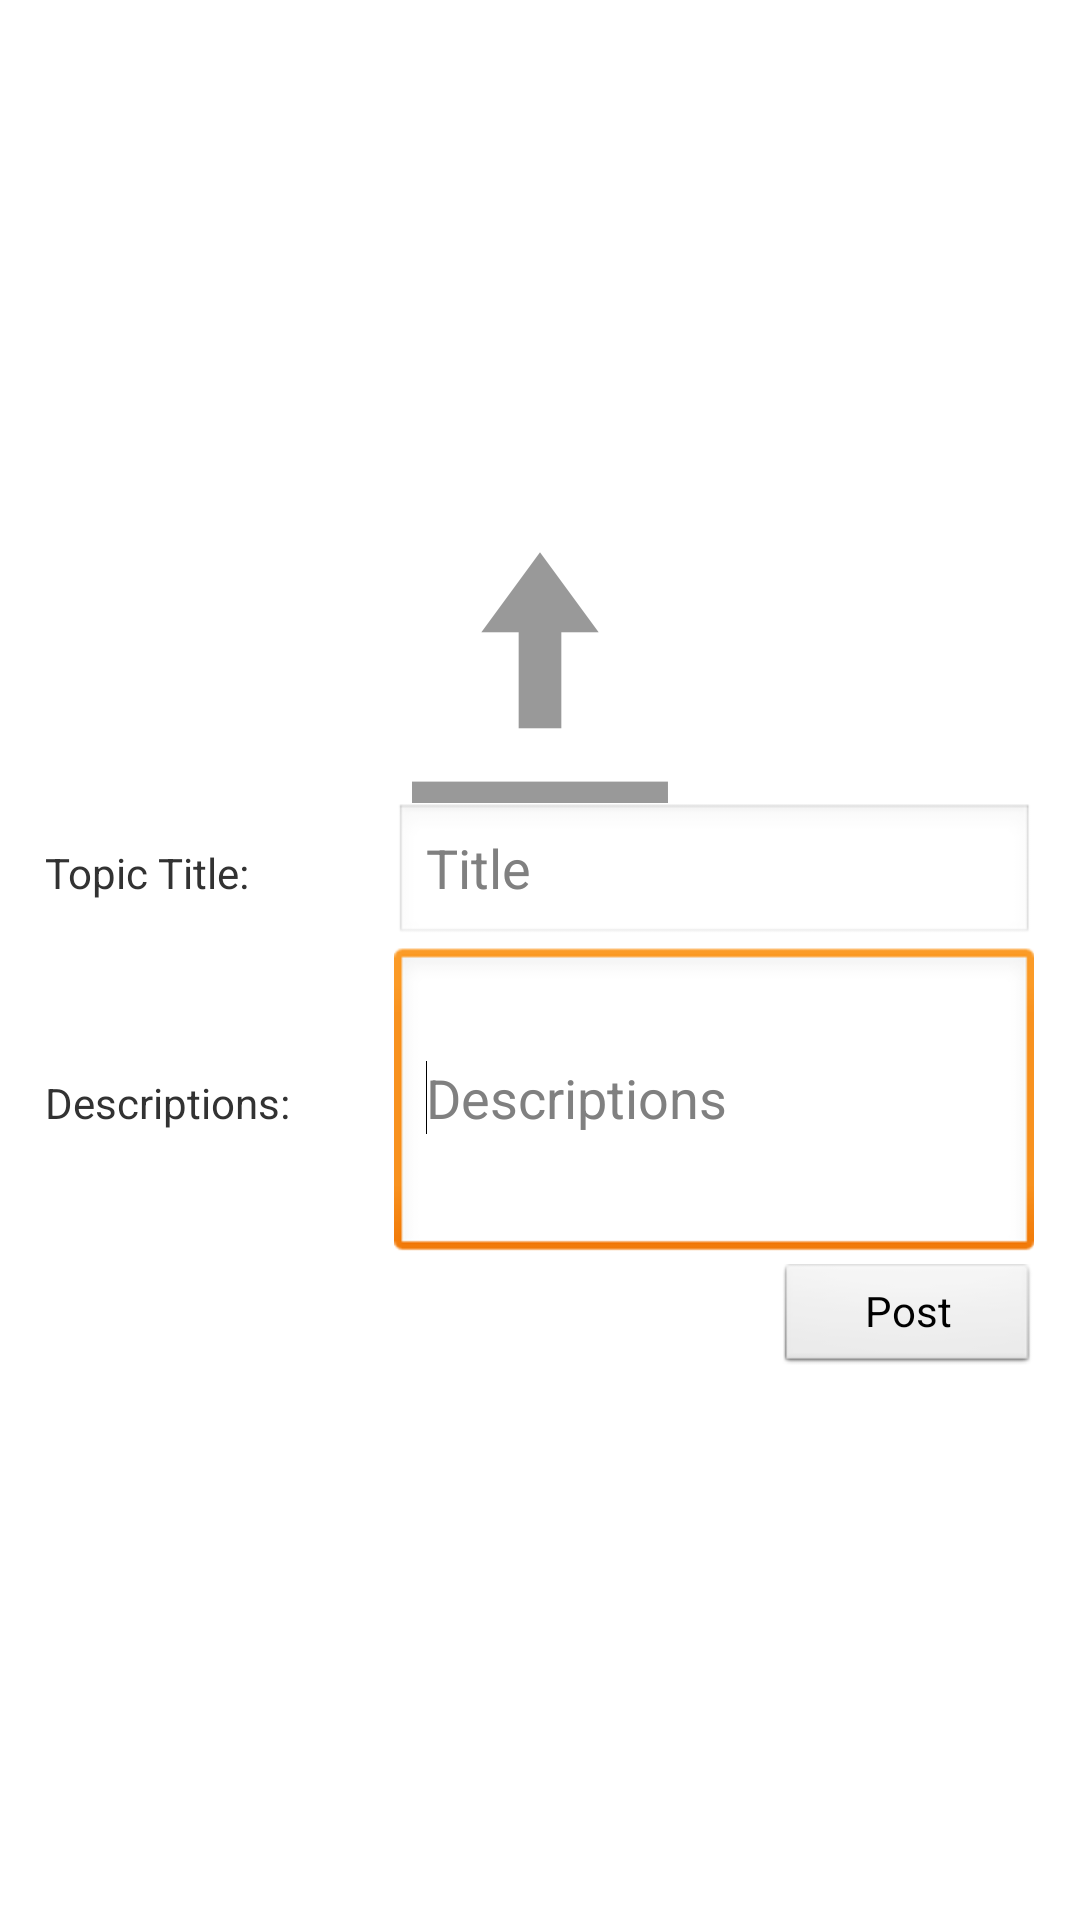

Point at icon controls on the screen. Image size 1080*1920, points as (x,y).
android upload: (540,678)
